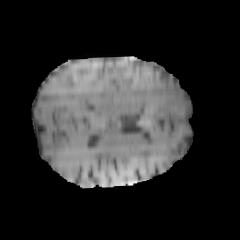glioma: (81, 61, 188, 112)
